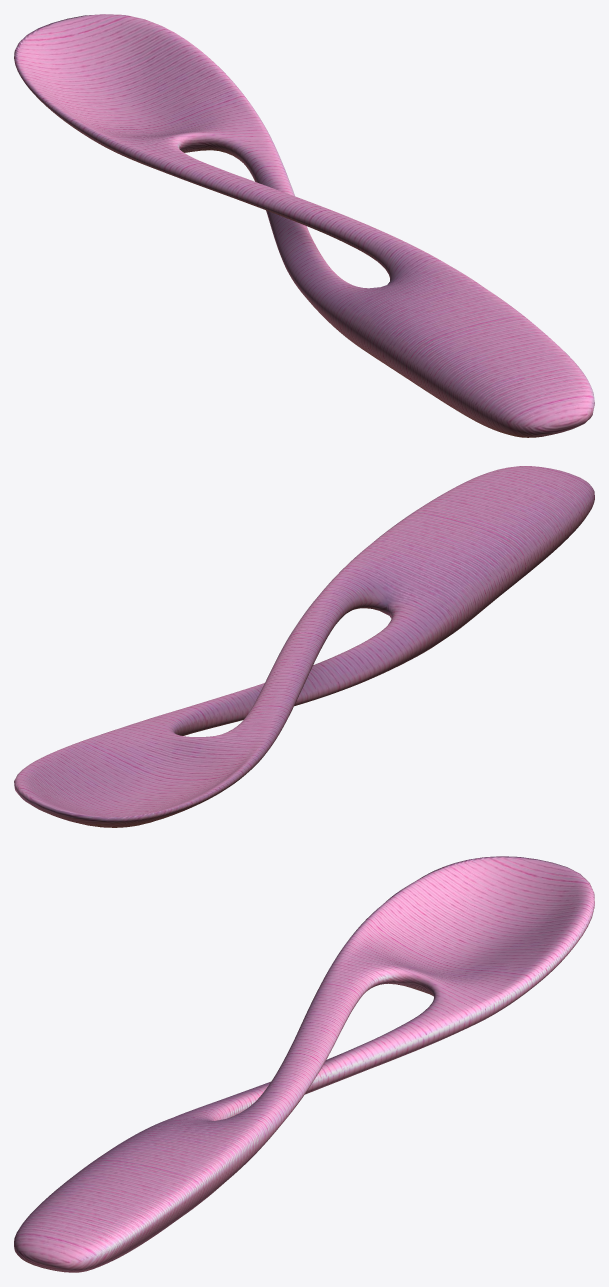
Rendered from 28_Moebius.glb.
3 renders of one model, top to bottom at view 1: azimuth 30°, elevation 25°; view 2: azimuth 150°, elevation 25°; view 3: azimuth 330°, elevation 25°, orthographic.
Parts seen in each view (by area): view 1: 28_Moebius; view 2: 28_Moebius; view 3: 28_Moebius.
Part boxes in pixels (x1,y1,x2,y2): 28_Moebius: (14, 14, 594, 437); 28_Moebius: (14, 466, 594, 827); 28_Moebius: (14, 856, 594, 1272).
Size of the model in its own units: 0.0308 by 0.0111 by 0.1518.
1 material, 1 textured.
